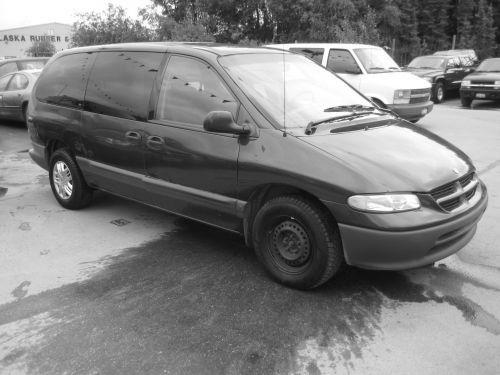car: (29, 43, 487, 286)
